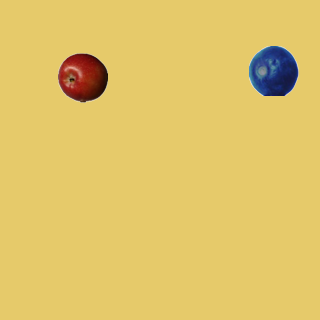Apple Braeburn: (57, 52, 107, 102)
Huckleberry: (248, 45, 298, 95)
